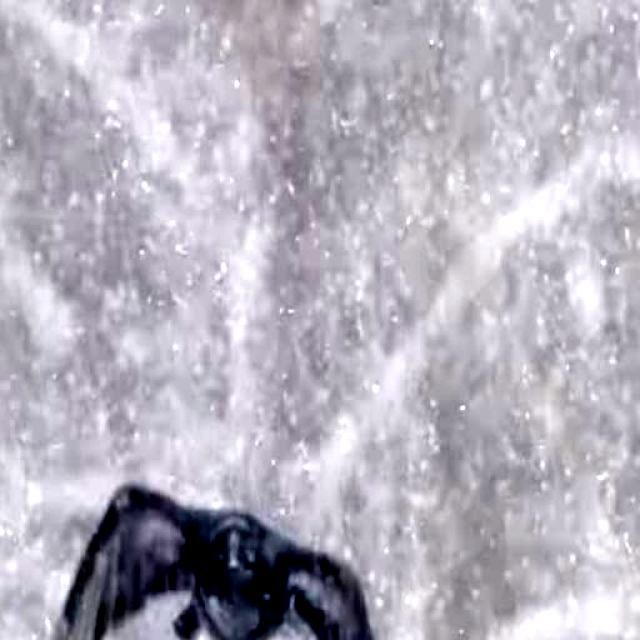airplane: (0, 471, 405, 640)
